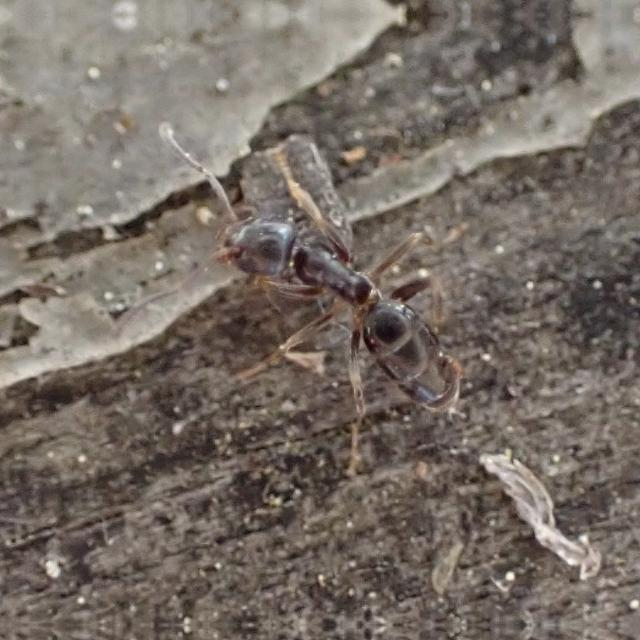Tapinoma: (186, 158, 498, 436)
